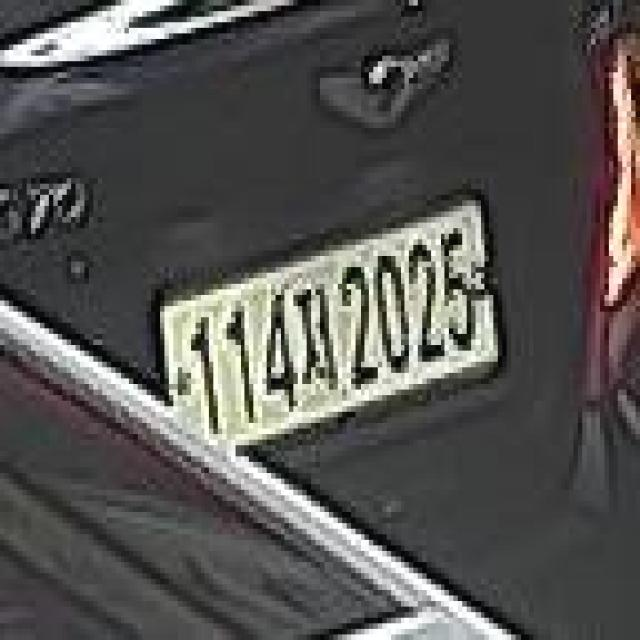illegal_plate: (148, 195, 500, 478)
